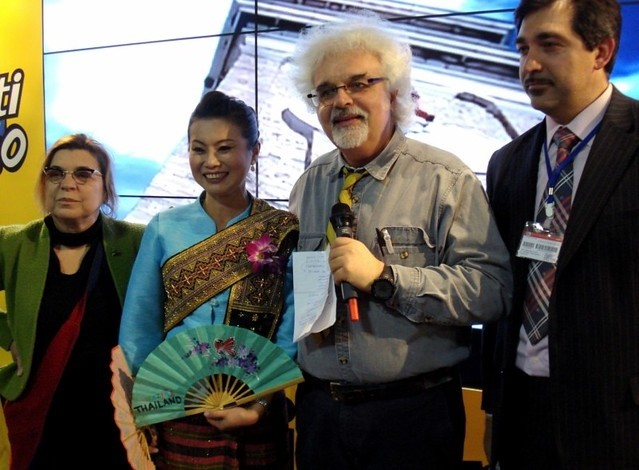face_no_mask: (513, 1, 621, 114), (186, 102, 261, 195), (42, 142, 109, 217)
